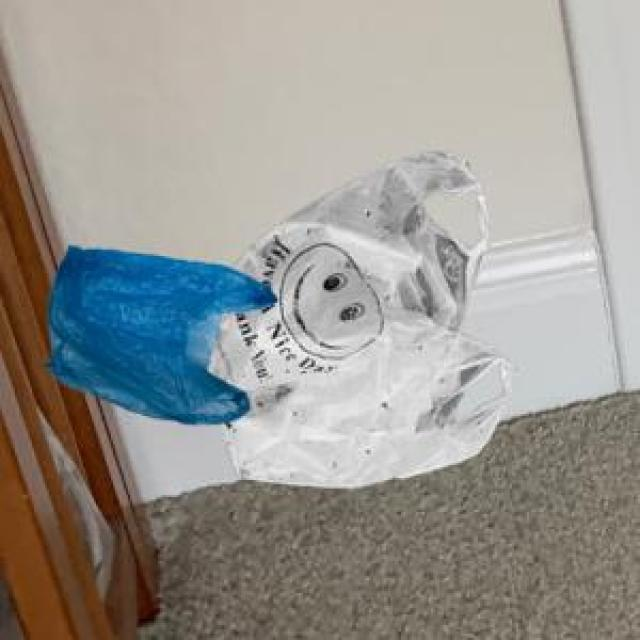Bolsa-de-nilon: (220, 165, 490, 500), (51, 237, 272, 440)
